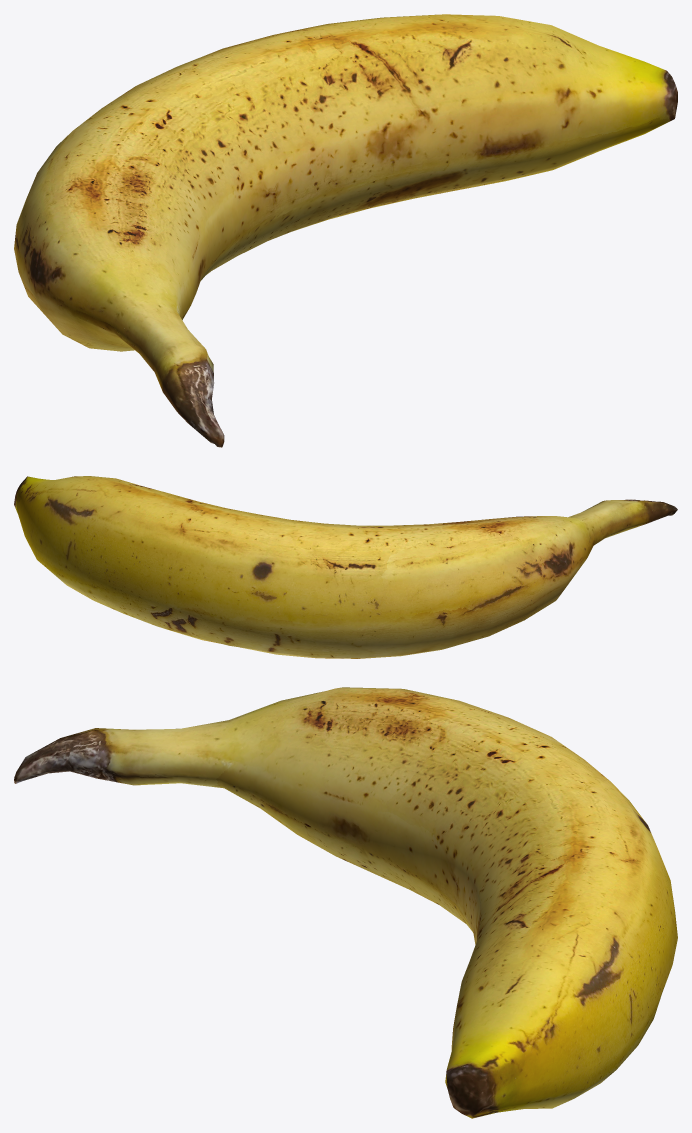
File: FruitBanana.fbx
3 renders of one model, top to bottom at view 1: azimuth 30°, elevation 25°; view 2: azimuth 150°, elevation 25°; view 3: azimuth 270°, elevation 25°, orthographic. The views are drawn at different scales.
Parts seen in each view (by area): view 1: banana_4k; view 2: banana_4k; view 3: banana_4k.
Boxes of the visible parts, box(x1,y1,x2,y2) form: banana_4k: box(14, 14, 677, 447); banana_4k: box(14, 476, 677, 658); banana_4k: box(14, 687, 677, 1118).
Bounding box in the file's own units: 325 × 75.83 × 259.
1 material, 1 textured.
